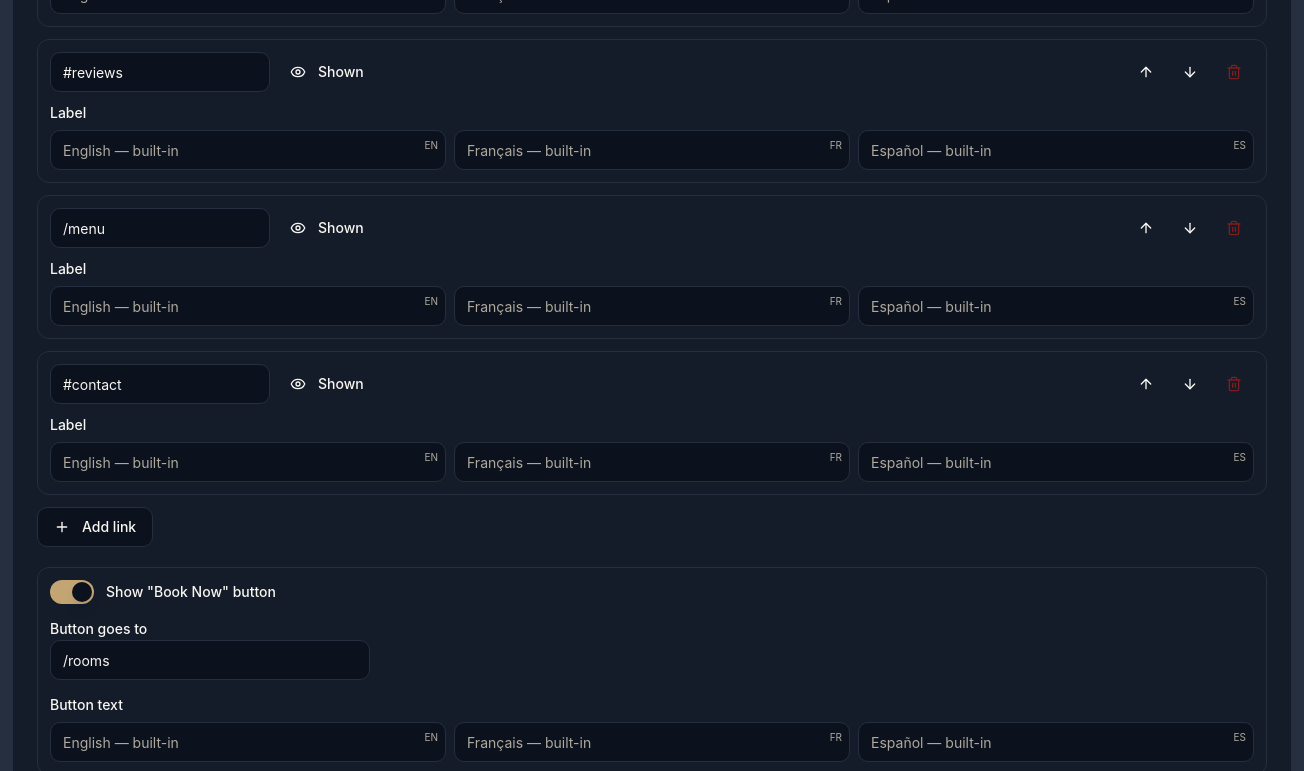
it: website design editor › keeps a new header link in the draft until Save changes succeeds
(page scrolled)
Click the button "Add link". click: click(95, 527)
box: [37,507,153,547]
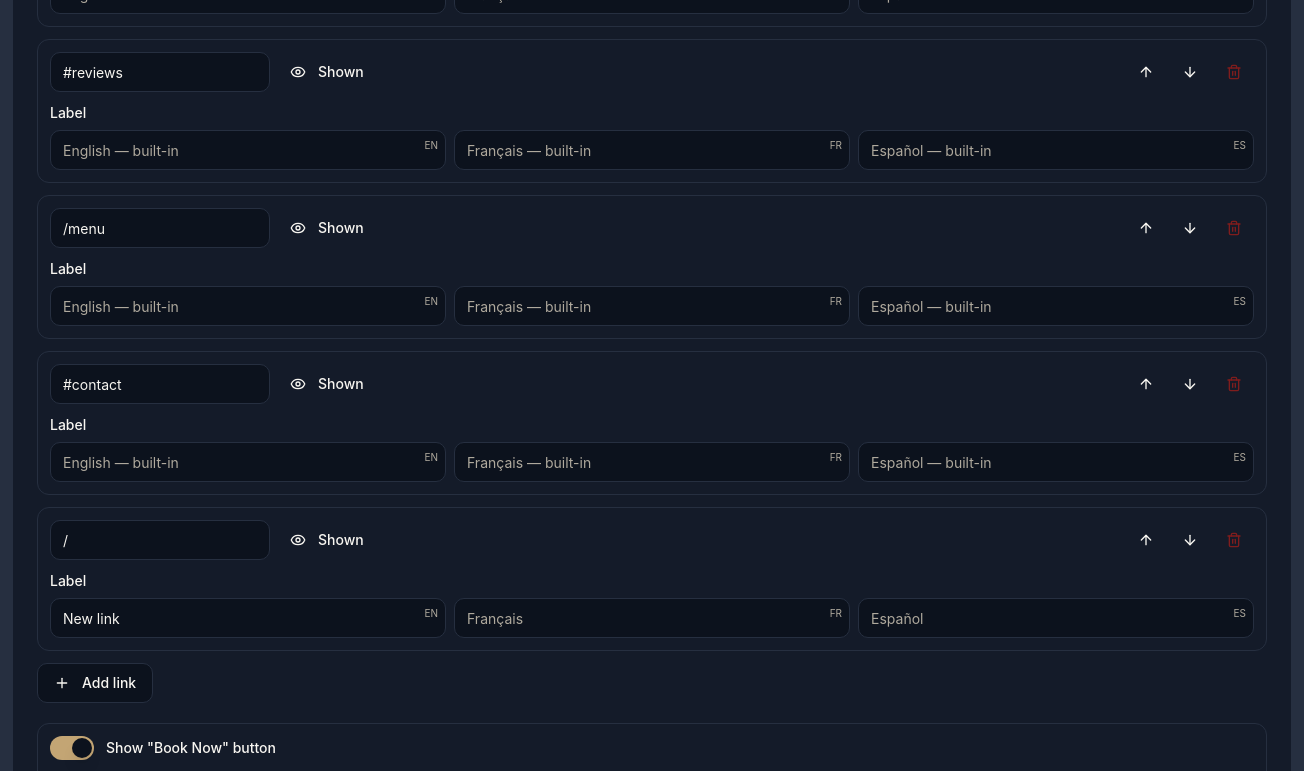
Replace the text in the field named "Label — English" with "Guest help". click: (248, 618)
box: [50,598,446,638]
(page scrolled)
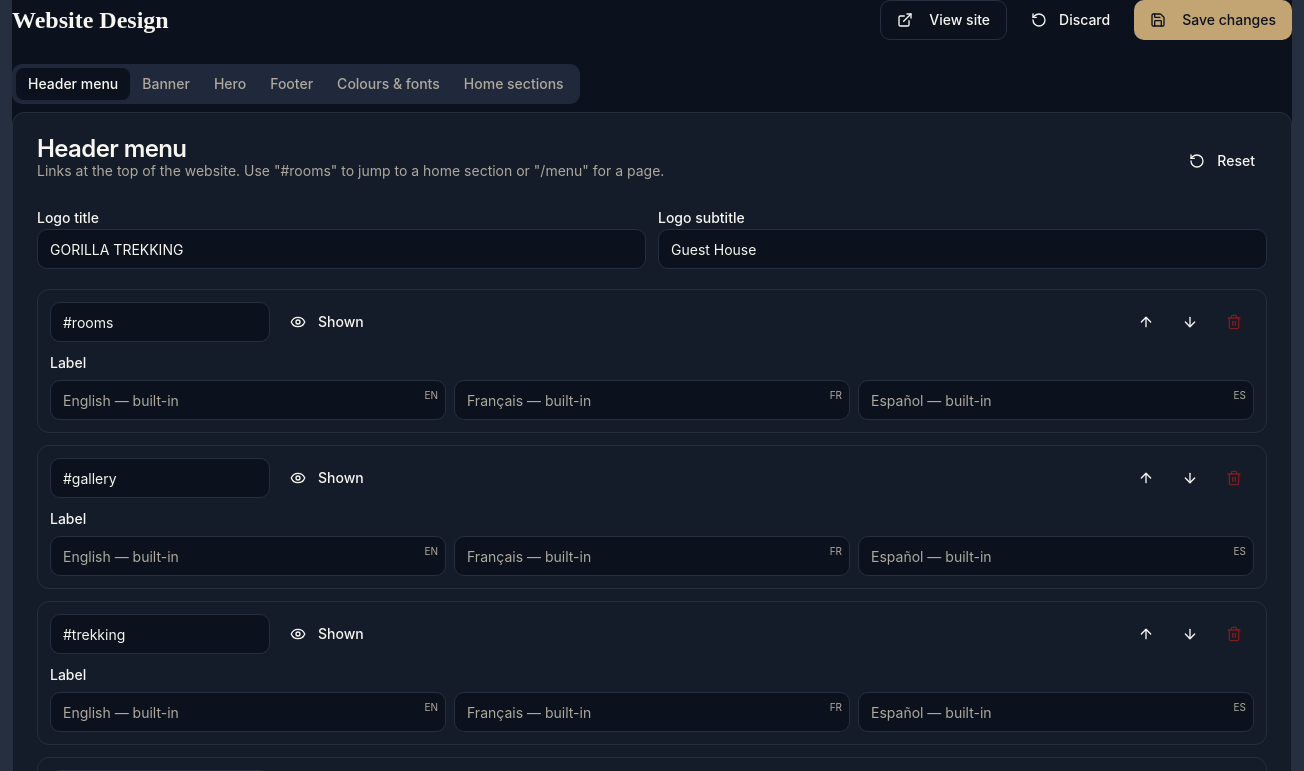
Click the button "Save changes". click: click(1213, 20)
box: [1134,0,1292,40]
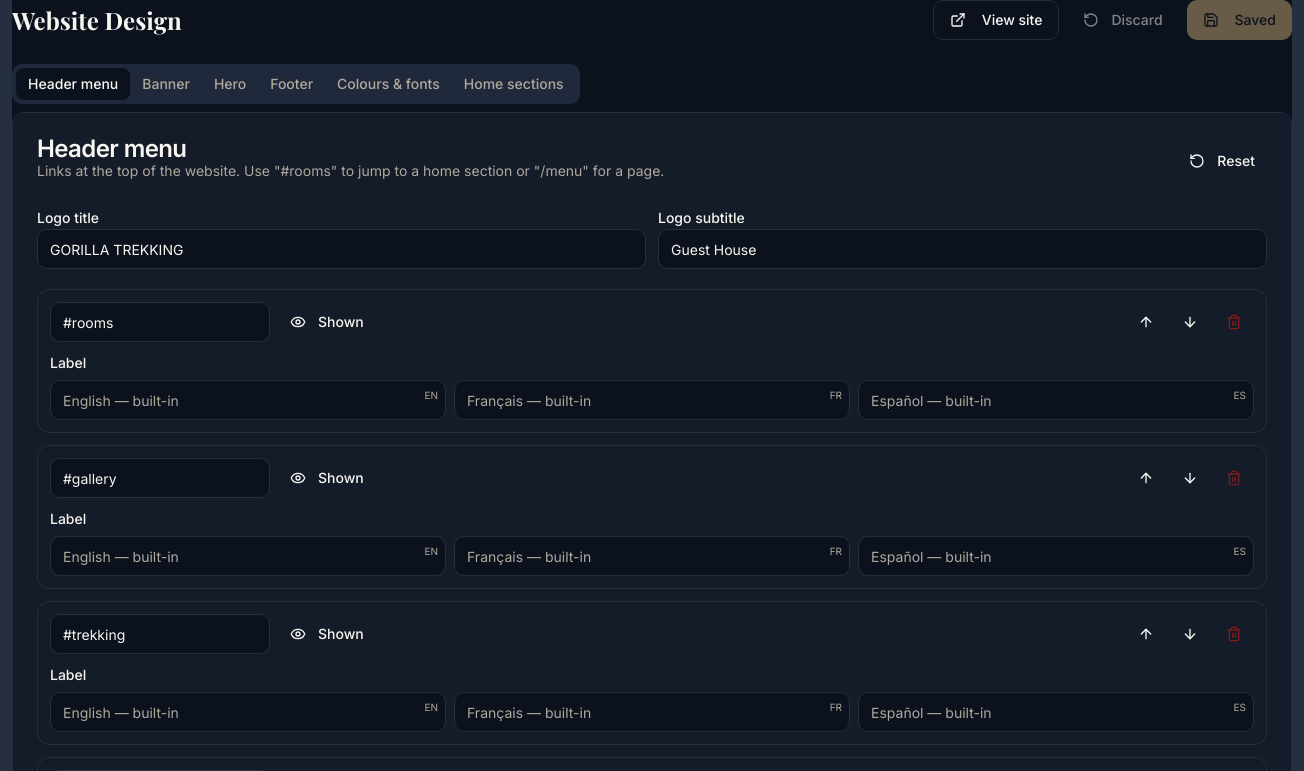
Now the button "Saved" is disabled, box [1187,0,1292,40]
